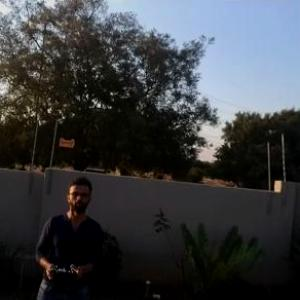follow: (27, 173, 105, 299)
